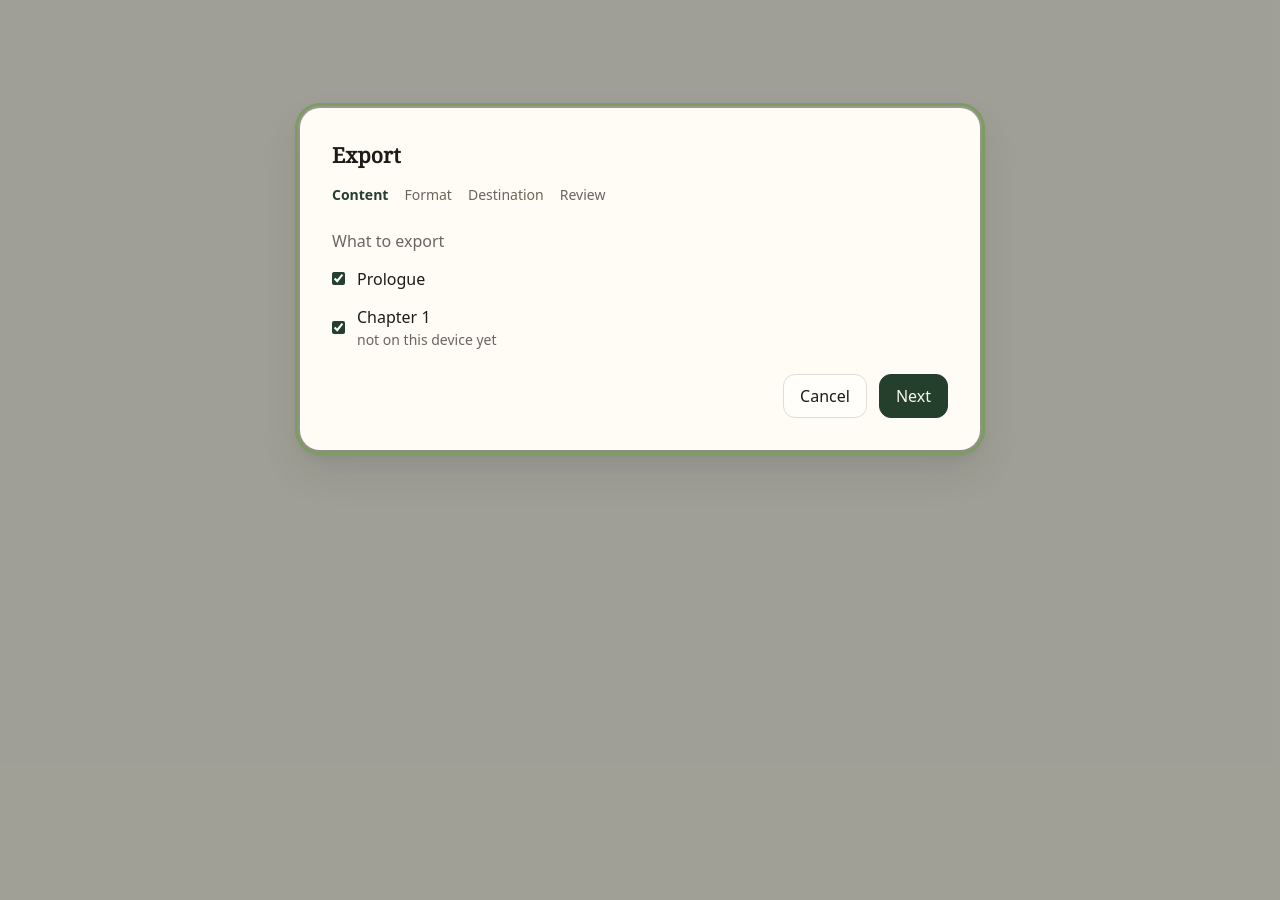
Test case: Export › ignores a stale preview failure after a newer generation
This screenshot has width=1280, height=900.
Expected: the dialog "Export" is shown, x1=300 y1=108 x2=980 y2=450
Click the button "Next" at (913, 396), box x1=879 y1=374 x2=948 y2=418
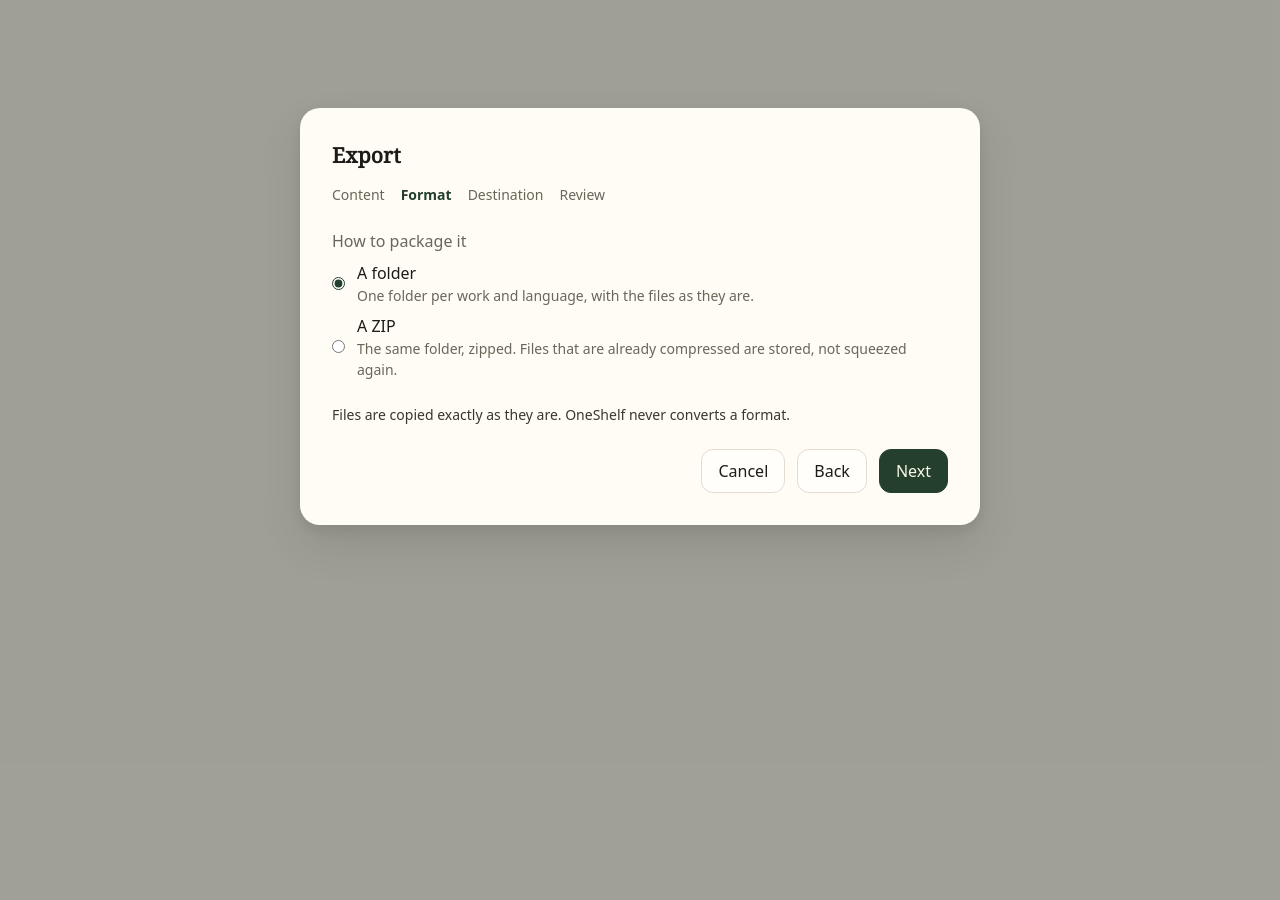
Click the button "Next" at (913, 470), box x1=879 y1=448 x2=948 y2=492
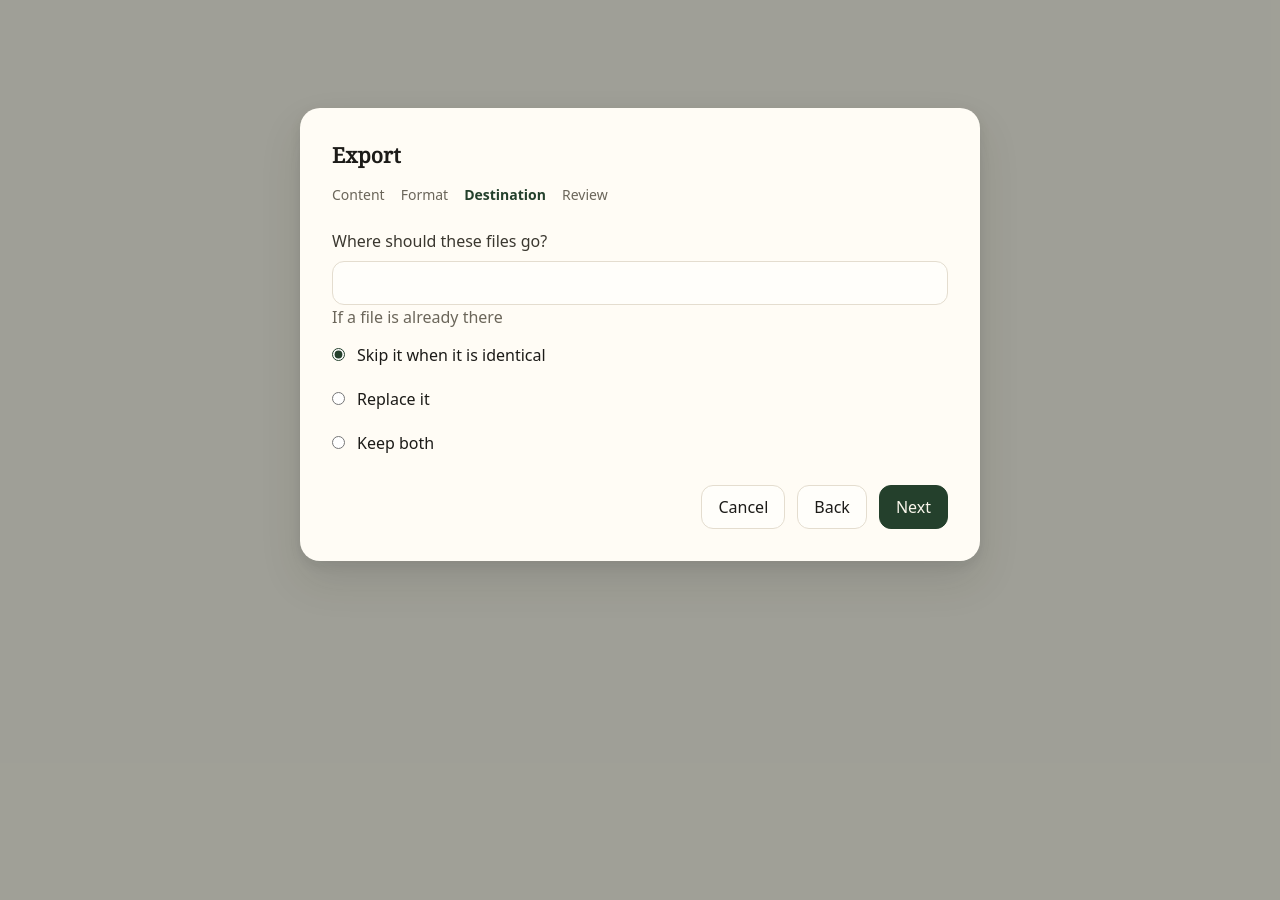
Type "/A" into the field at (640, 282), box x1=332 y1=260 x2=948 y2=304
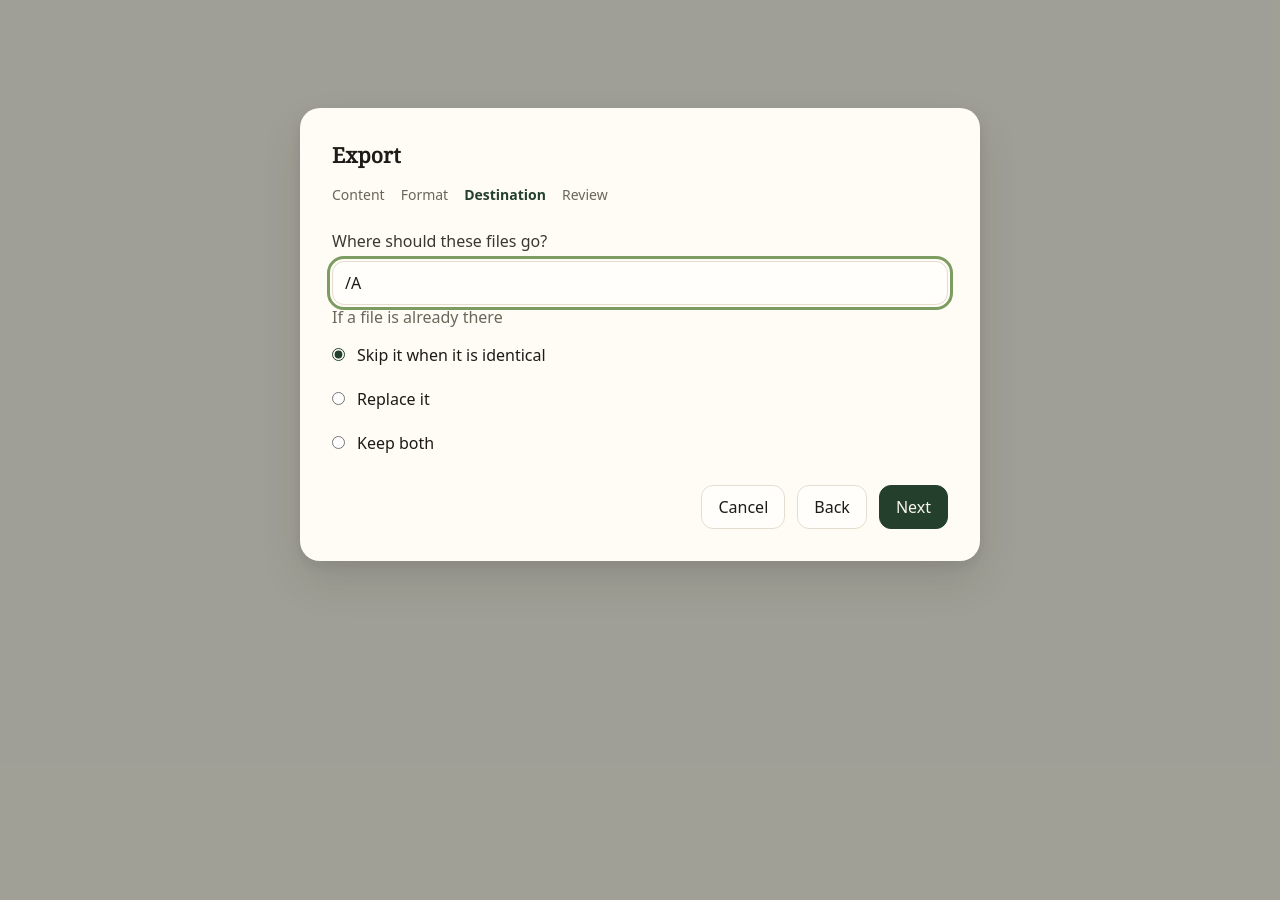
Click the button "Next" at (913, 506), box x1=879 y1=484 x2=948 y2=528
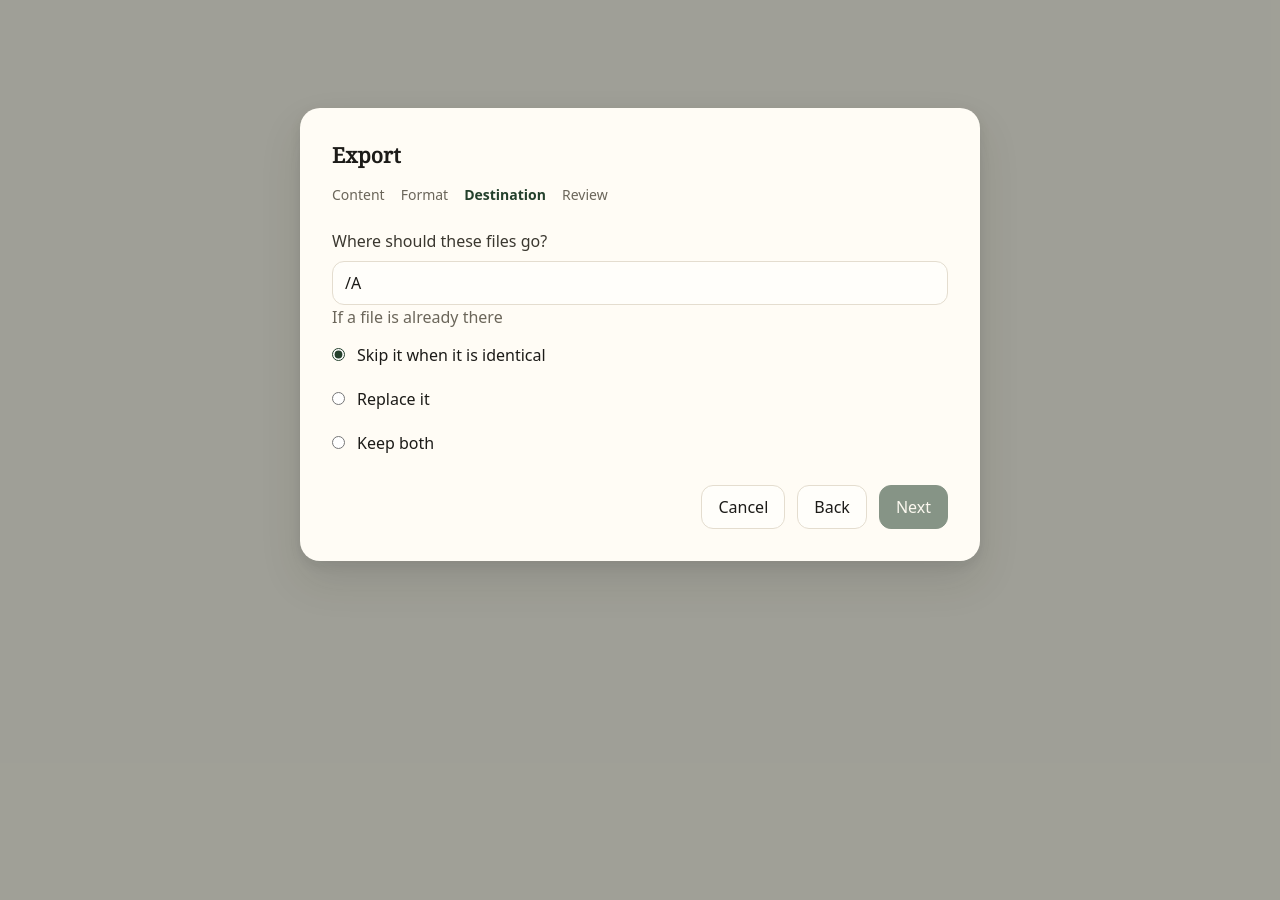
Replace the text in the field with "/B" at (640, 282), box x1=332 y1=260 x2=948 y2=304
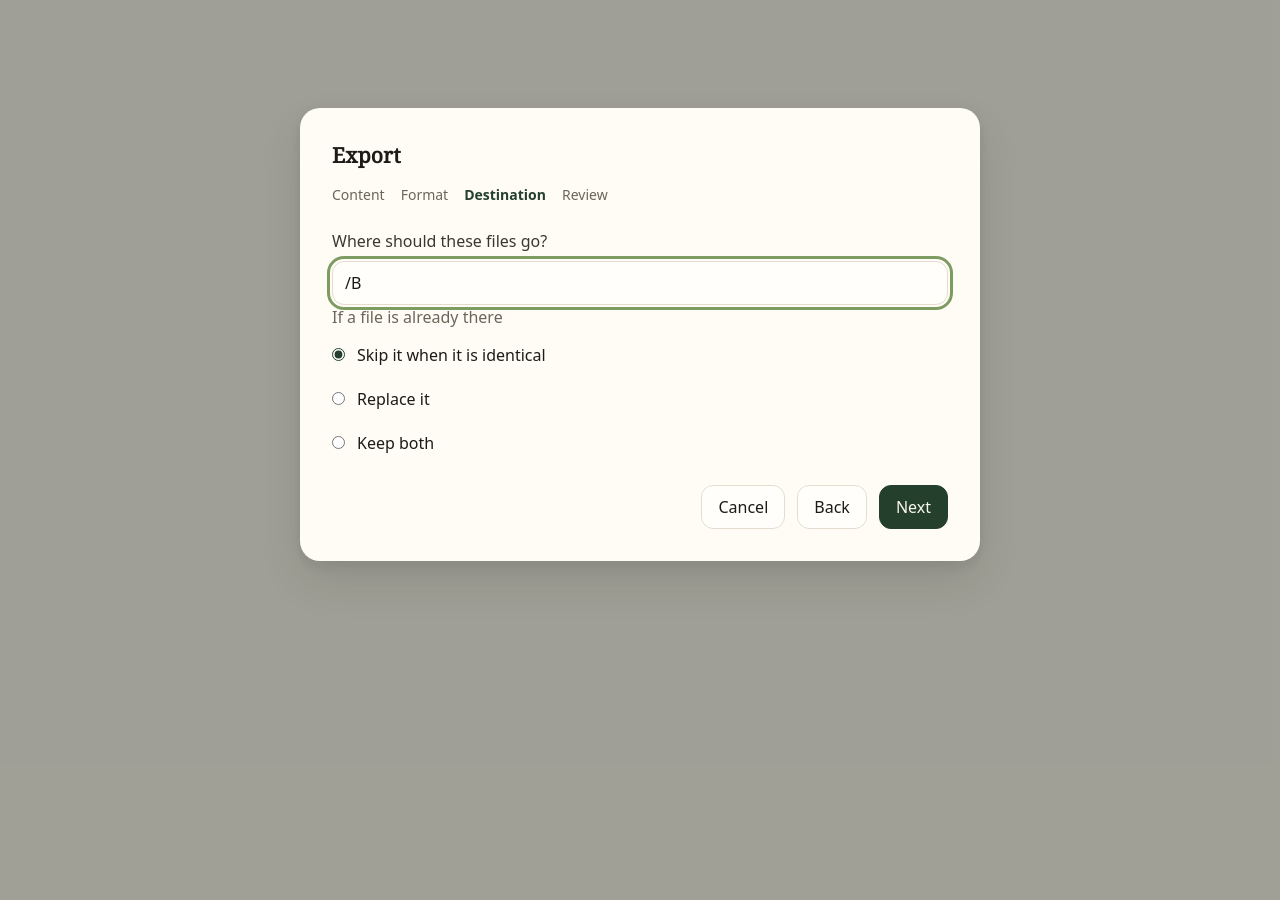
Click the button "Next" at (913, 506), box x1=879 y1=484 x2=948 y2=528
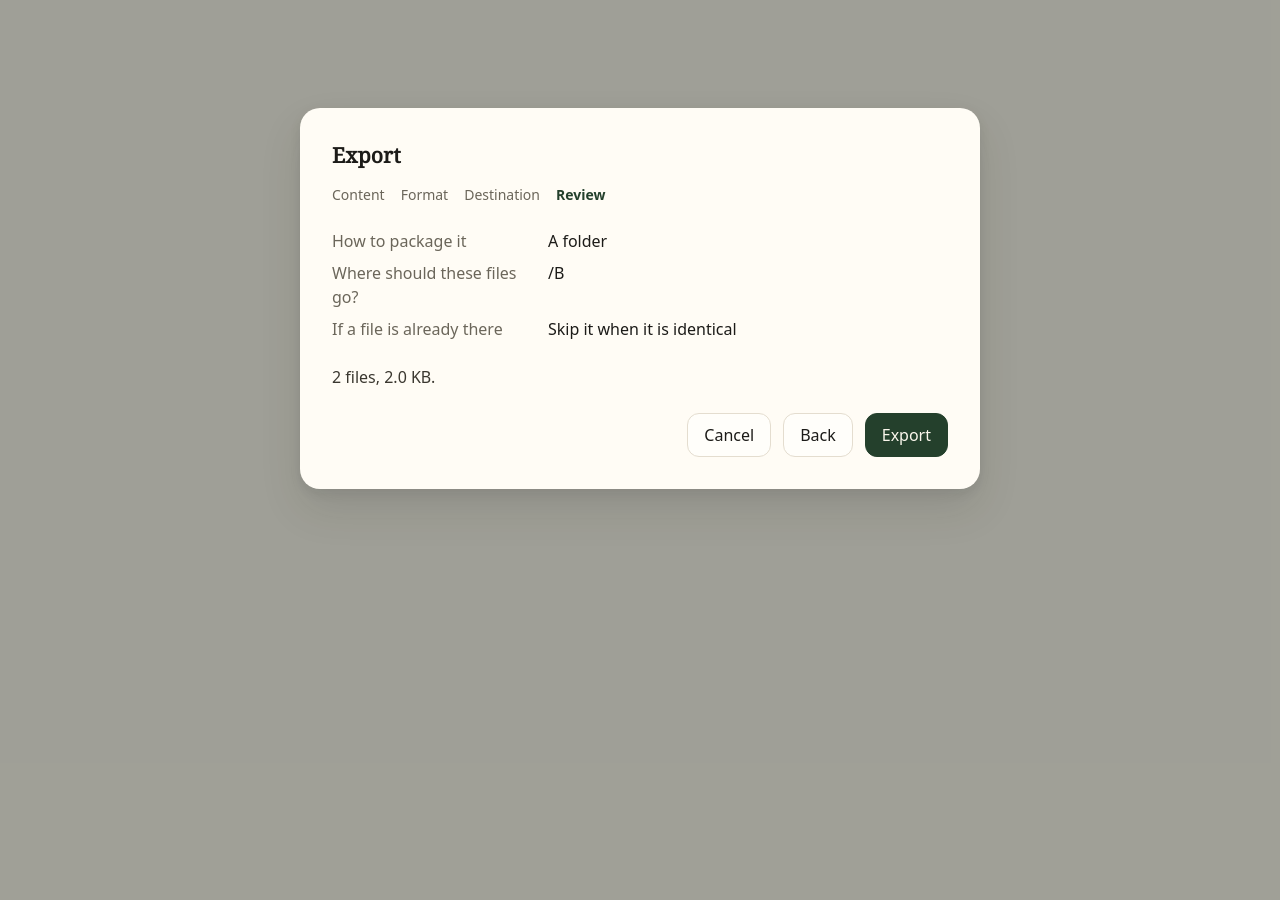
Result: the text "2 files, 2.0 KB." is shown at x1=332 y1=366 x2=435 y2=388
